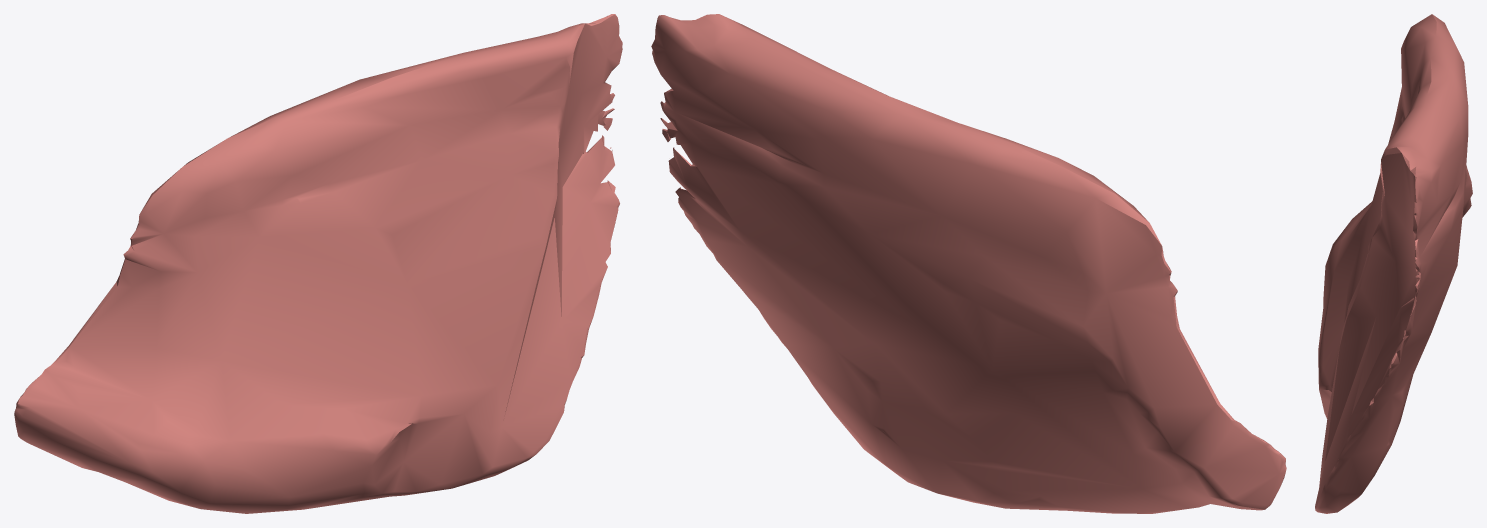
File: fma22339_fj1432m.glb
The picture shows the model from 3 angles, left to right: view 1: azimuth 30°, elevation 25°; view 2: azimuth 150°, elevation 25°; view 3: azimuth 270°, elevation 25°; orthographic projection. The views are drawn at different scales.
Visible parts, largest first — view 1: FMA22339_FJ1432M; view 2: FMA22339_FJ1432M; view 3: FMA22339_FJ1432M.
Boxes of the visible parts, x1,y1,x2,y2 form: FMA22339_FJ1432M: [14, 14, 622, 513]; FMA22339_FJ1432M: [651, 14, 1286, 513]; FMA22339_FJ1432M: [1315, 14, 1472, 513].
Bounding box in the file's own units: 0.0706 × 0.0462 × 0.0152.
